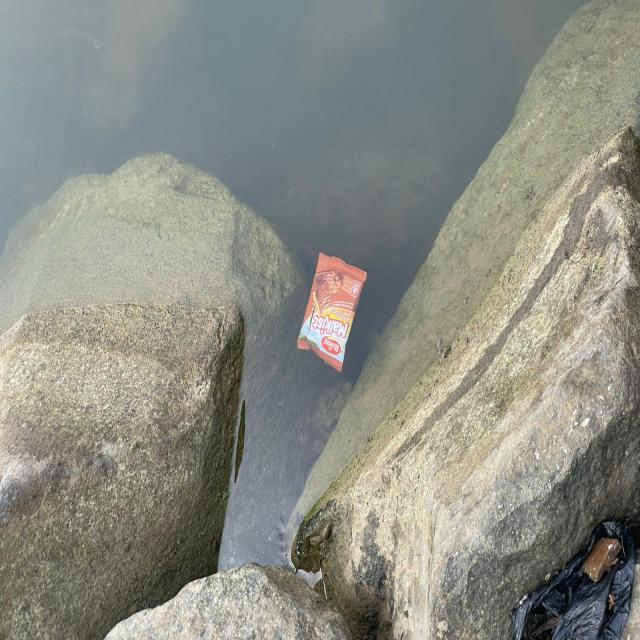Bungkus Makanan: (291, 247, 370, 377)
